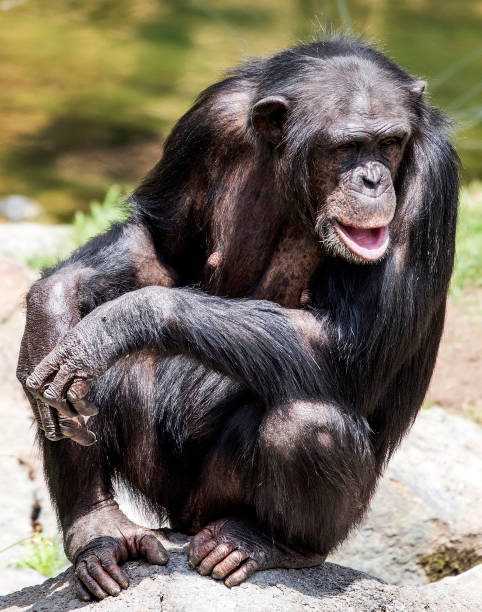chimpanzee: (225, 38, 443, 276)
